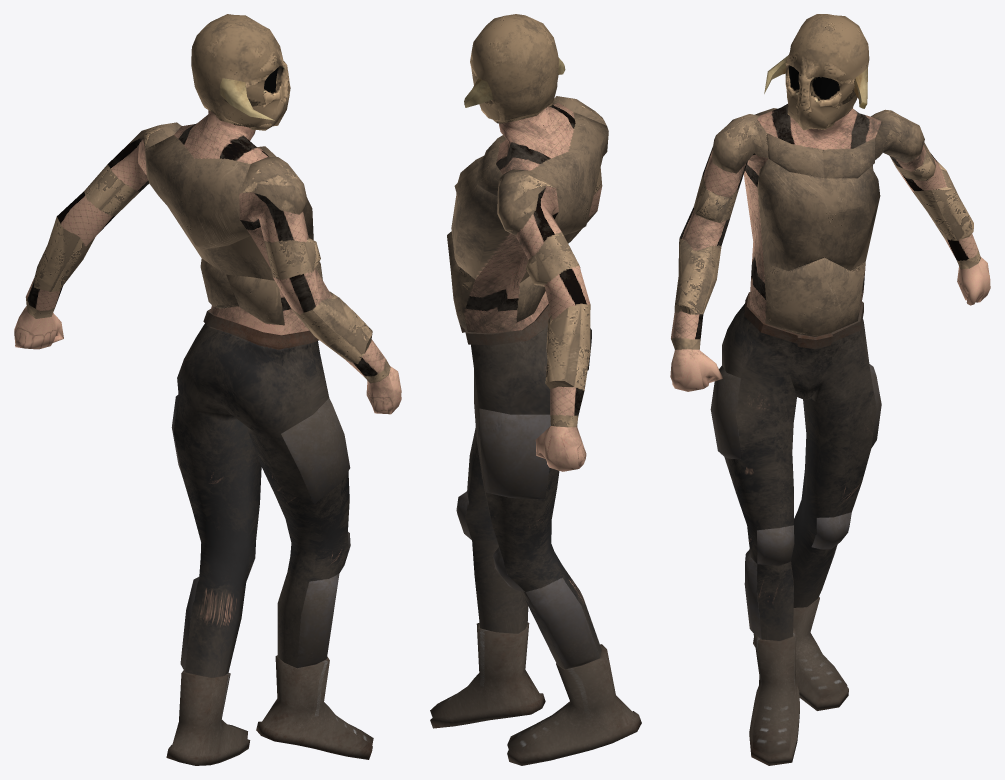
File: Anim_ataque_f1_npc1.0029.obj
3 renders of one model, left to right at view 1: azimuth 30°, elevation 25°; view 2: azimuth 150°, elevation 25°; view 3: azimuth 270°, elevation 25°, orthographic. The views are drawn at different scales.
Visible parts, largest first — view 1: NPC2; view 2: NPC2; view 3: NPC2.
Boxes of the visible parts, x1,y1,x2,y2 form: NPC2: [14, 14, 401, 765]; NPC2: [430, 14, 641, 765]; NPC2: [670, 14, 990, 765].
Bounding box in the file's own units: 3.47 × 9.76 × 4.04.
